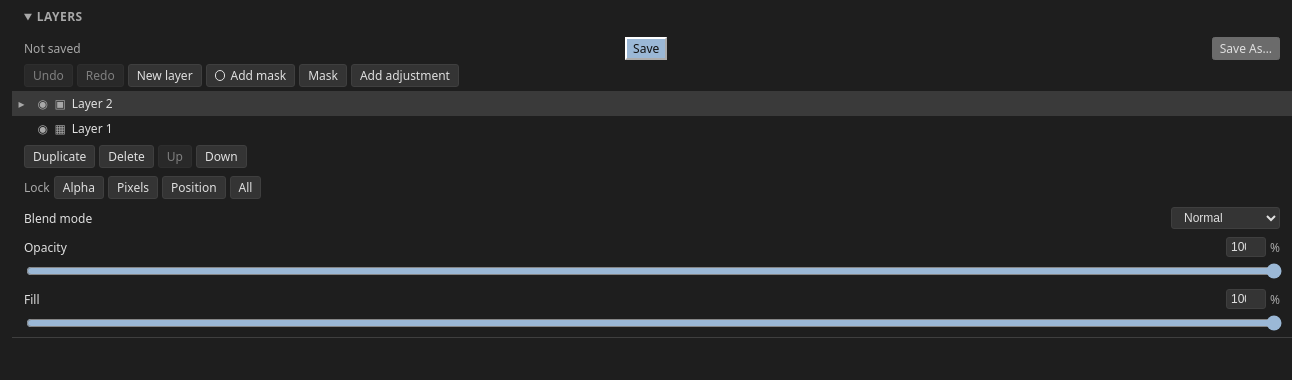
Test: LayersPanel › expands a group
Check: the button "Layer 3" is not shown
Click the button named "Expand Layer 2": [22, 104] box [12,95,31,112]
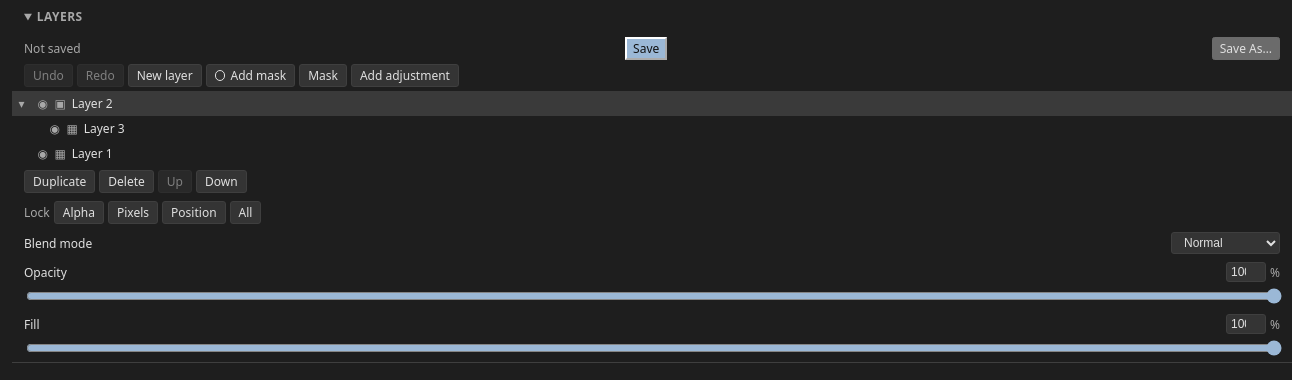
Check: the button "Layer 3" is shown, box [80,116,1284,141]
